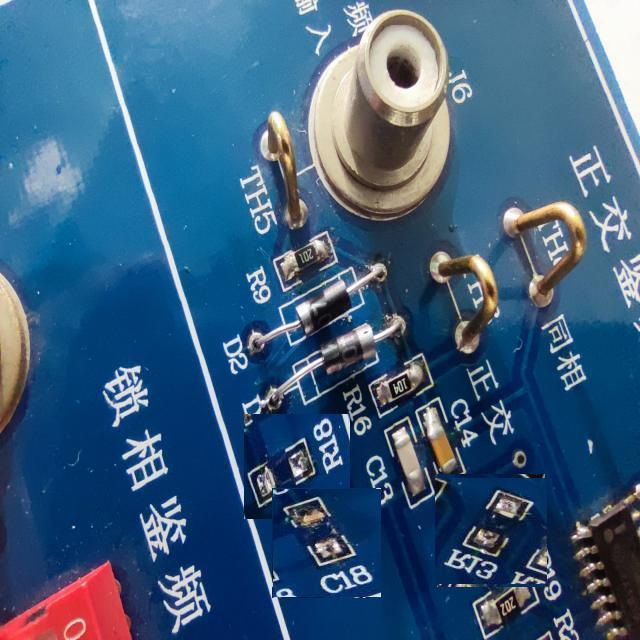miss_welding: (435, 477, 547, 584), (273, 490, 381, 597), (245, 414, 350, 519)
